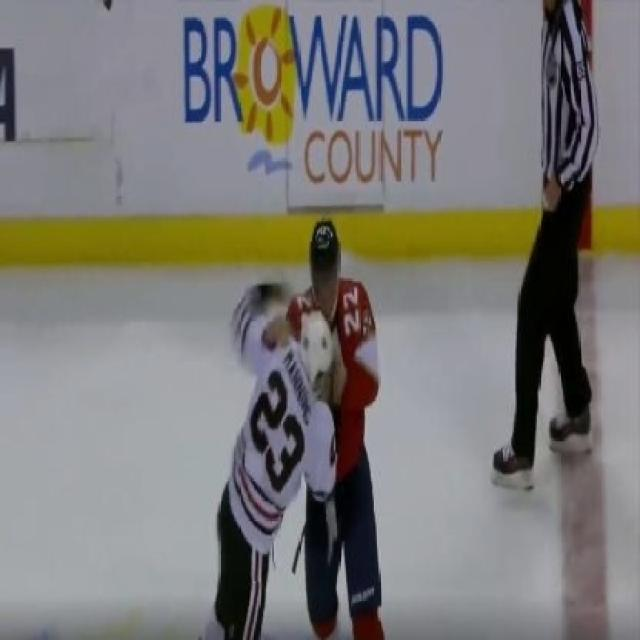fight: (206, 215, 392, 640)
non-fight: (488, 0, 598, 469)
